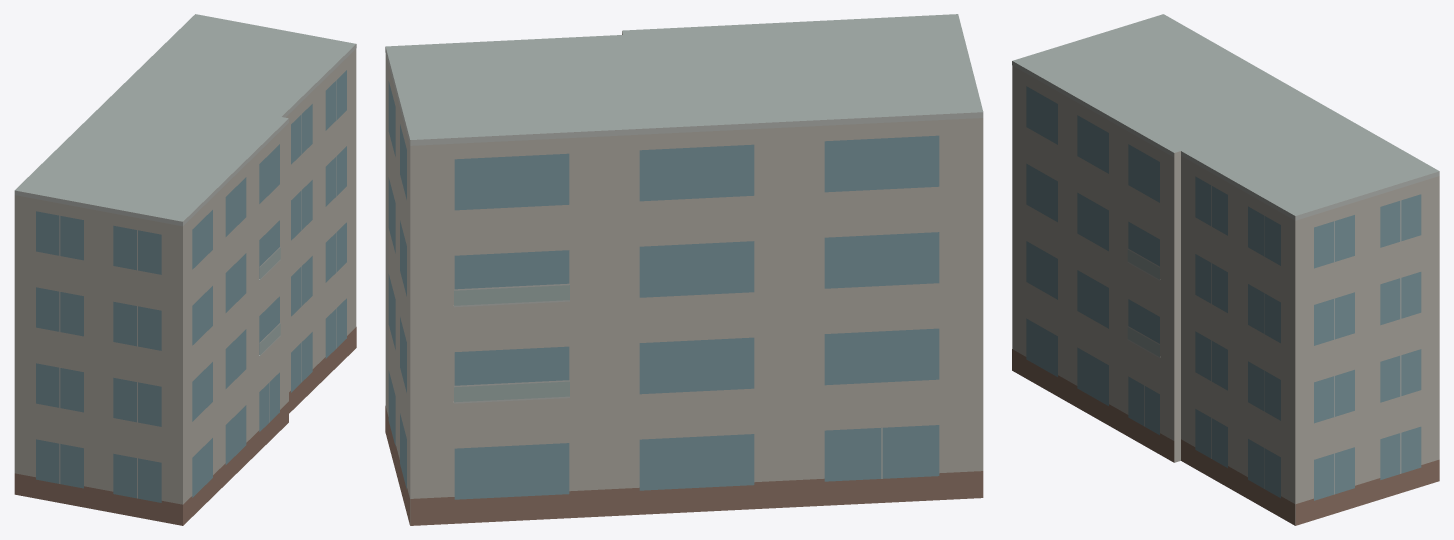
Rendered from survey-upis-32581423.glb.
3 renders of one model, left to right at view 1: azimuth 30°, elevation 25°; view 2: azimuth 150°, elevation 25°; view 3: azimuth 270°, elevation 25°, orthographic. The views are drawn at different scales.
Visible parts, largest first — view 1: survey-upis-32581423.tmp; view 2: survey-upis-32581423.tmp; view 3: survey-upis-32581423.tmp.
Boxes of the visible parts, left/top/right/bottom form: survey-upis-32581423.tmp: left=14, top=14, right=356, bottom=525; survey-upis-32581423.tmp: left=385, top=14, right=983, bottom=525; survey-upis-32581423.tmp: left=1012, top=14, right=1439, bottom=525.
Bounding box in the file's own units: 22.73 × 16.24 × 20.32.
